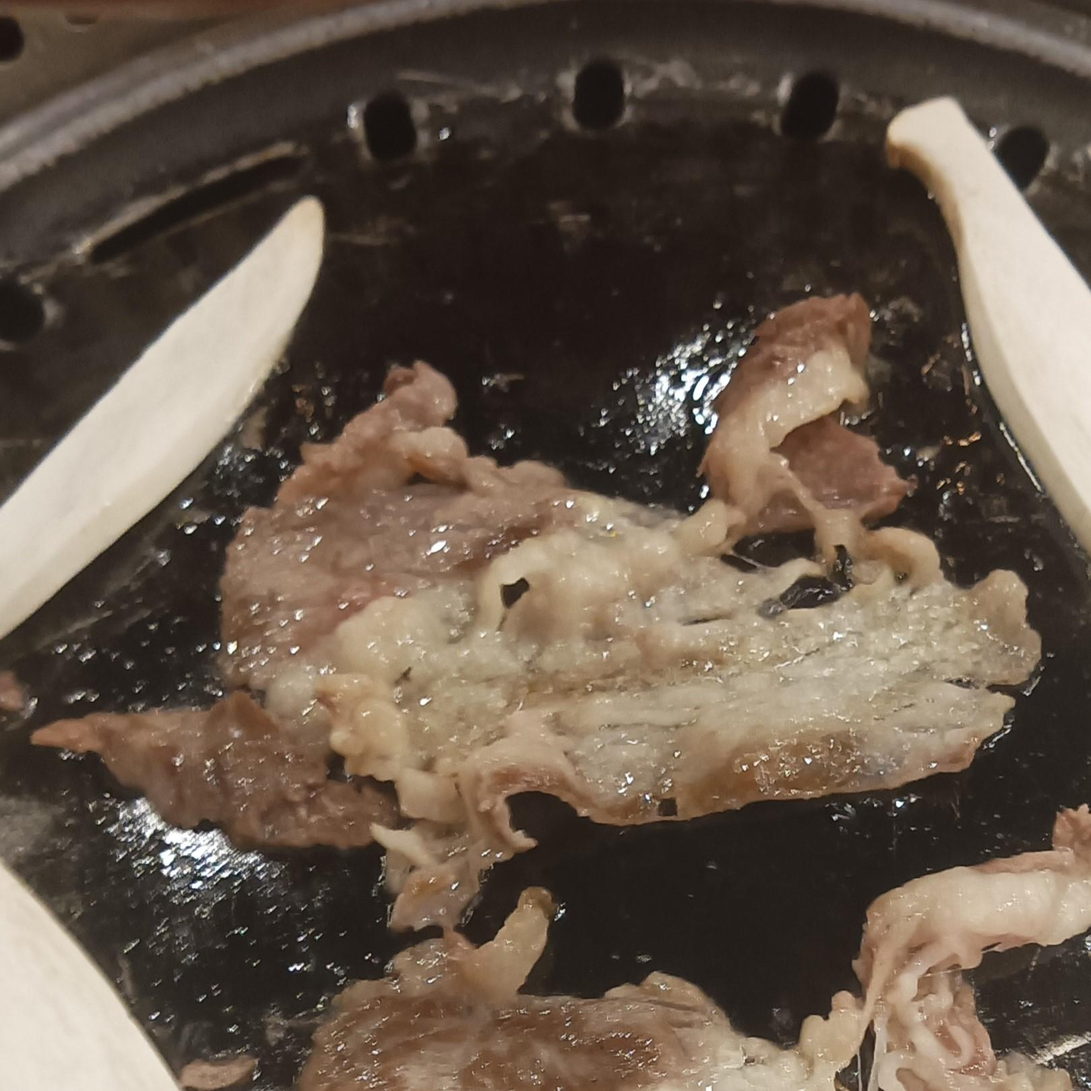Well-Cooked: (111, 313, 1040, 924), (278, 924, 926, 1090), (703, 294, 912, 564)
